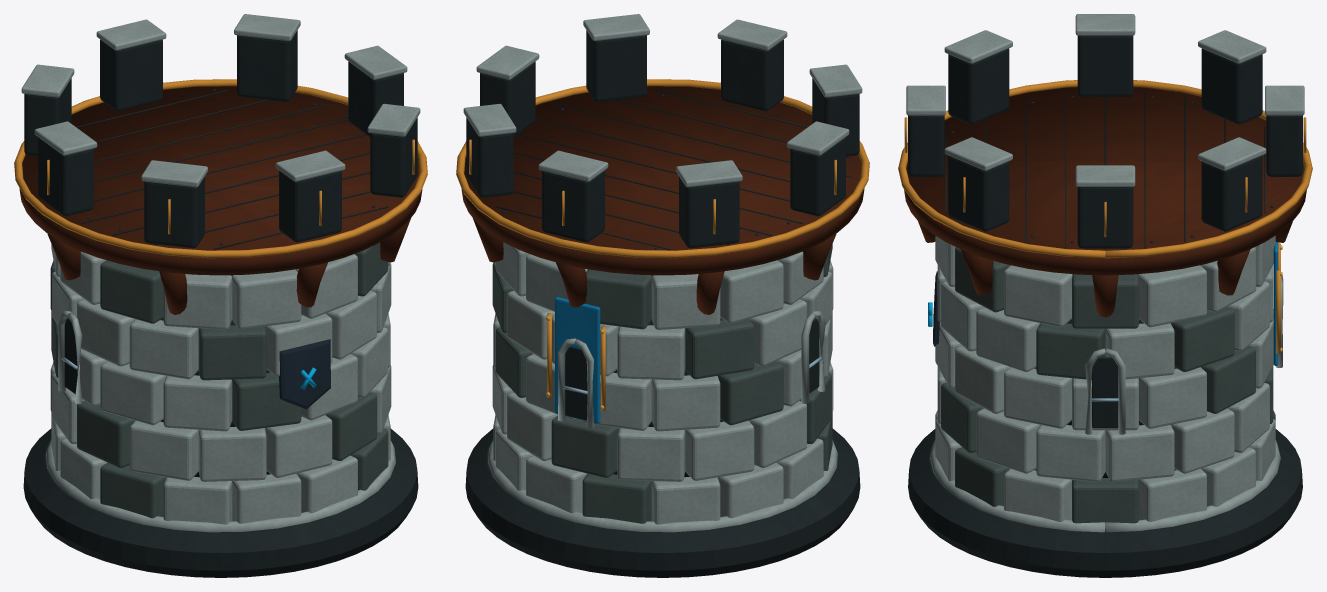
Rendered from SM_archer_tower.fbx.
3 renders of one model, left to right at view 1: azimuth 30°, elevation 25°; view 2: azimuth 150°, elevation 25°; view 3: azimuth 270°, elevation 25°, orthographic.
Parts seen in each view (by area): view 1: SM_archer_tower; view 2: SM_archer_tower; view 3: SM_archer_tower.
Boxes of the visible parts, x1=… form: SM_archer_tower: x1=14, y1=14, x2=427, y2=577; SM_archer_tower: x1=456, y1=14, x2=869, y2=577; SM_archer_tower: x1=898, y1=14, x2=1312, y2=577.
Size of the model in its own units: 2.13 by 2.13 by 2.27.
